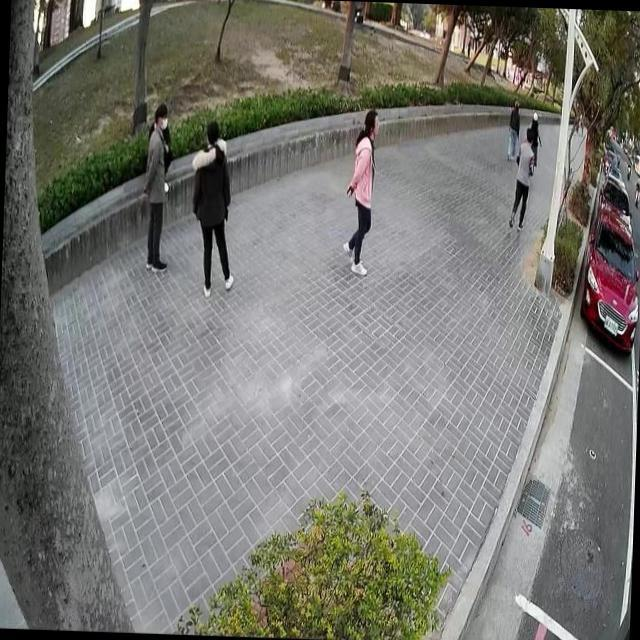person: (185, 114, 241, 300), (338, 101, 381, 277), (136, 100, 174, 276), (504, 120, 536, 236), (504, 93, 524, 162), (526, 106, 544, 171), (463, 31, 474, 60)
